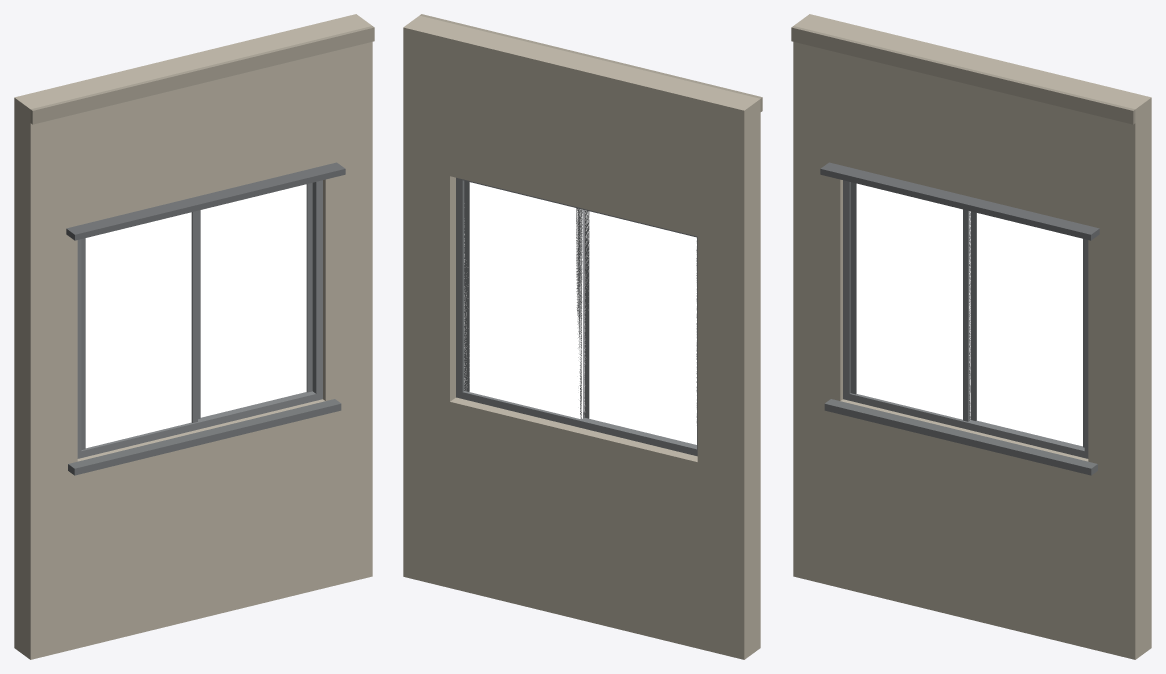
The model's file is building_bay_window_01.glb.
3 views of the same model, side by side, from view 1: azimuth 30°, elevation 25°; view 2: azimuth 150°, elevation 25°; view 3: azimuth 330°, elevation 25° (orthographic).
Parts seen in each view (by area): view 1: building_bay_window_01; view 2: building_bay_window_01; view 3: building_bay_window_01.
Part boxes in pixels (box(x1,y1,x2,y2)): building_bay_window_01: box(14, 14, 374, 659); building_bay_window_01: box(403, 14, 762, 659); building_bay_window_01: box(791, 14, 1151, 659).
Bounding box in the file's own units: 1.82 × 2.8 × 0.23.
